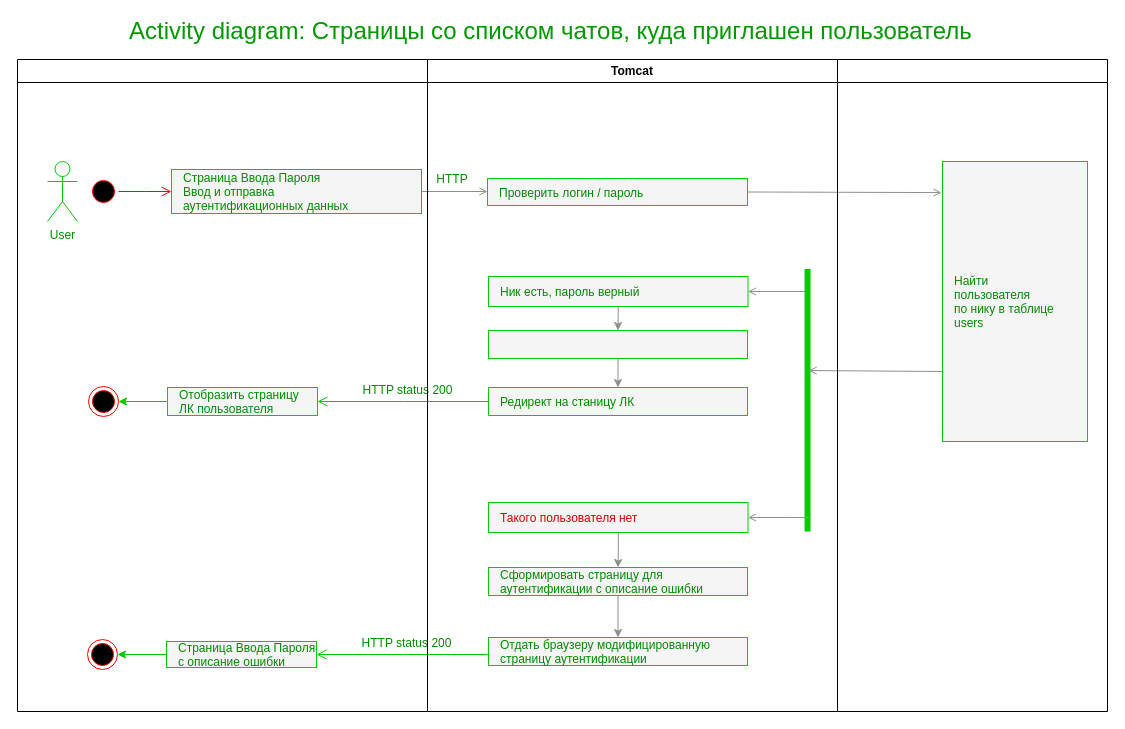
Some shapes in this 1125 by 729 pixel diagram are drawn without their labels. Here are the shapes that lost their labels. From the top down, the centre of each, then its label:
At point 618,344: "Создать HTTP сессию и внести туда данные пользователя".
At point 222,385: "Браузер".
At point 972,385: "PostgreSQL".
